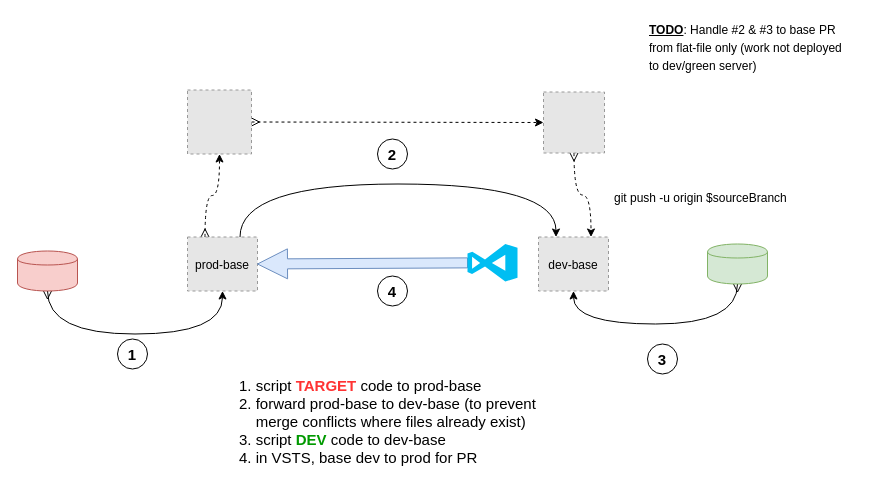
Image size: 875x484. Some labels were removed from this diagram. Grey dashed boxes stand in for pictures. Each missing label, with the centre of its shape:
0-Target: (47,270)
1-Source: (737,263)
